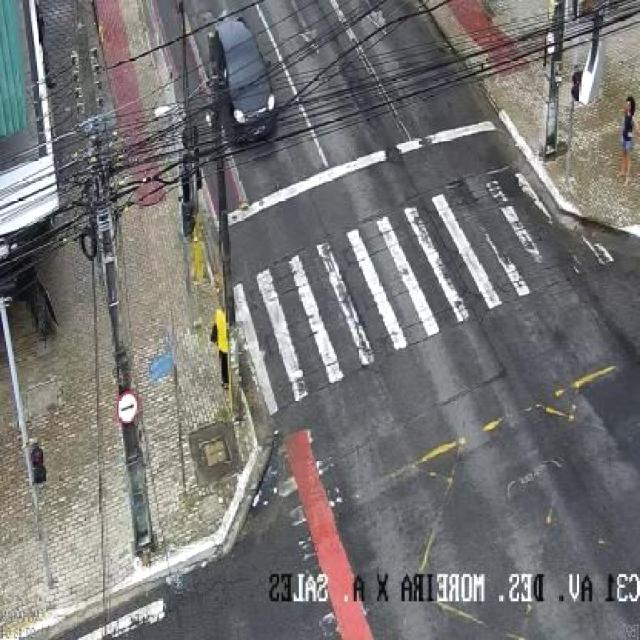Car: (207, 19, 278, 144)
